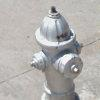Hydrant: (20, 3, 88, 100)
